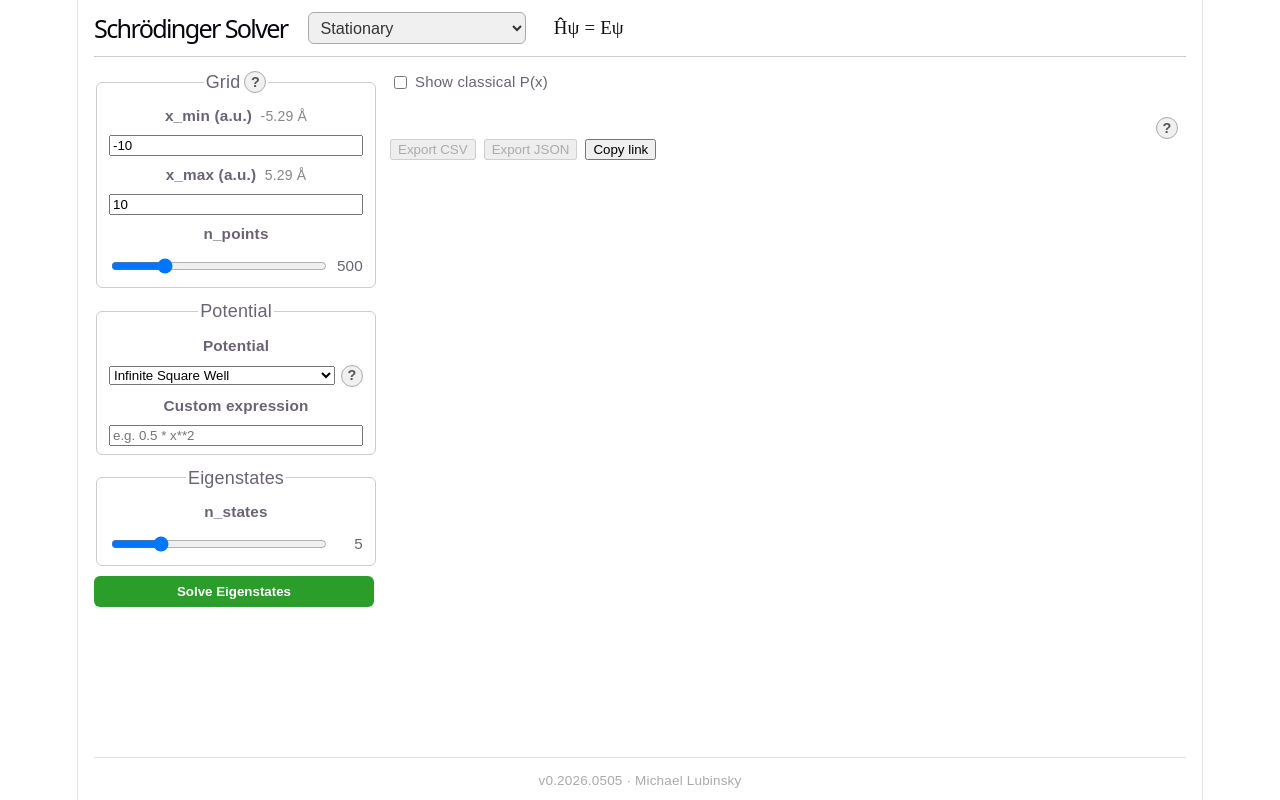
Test: App – error handling › shows ErrorBanner when API returns an error
Click the button "Solve Eigenstates": x=234, y=592 [94,576,374,607]
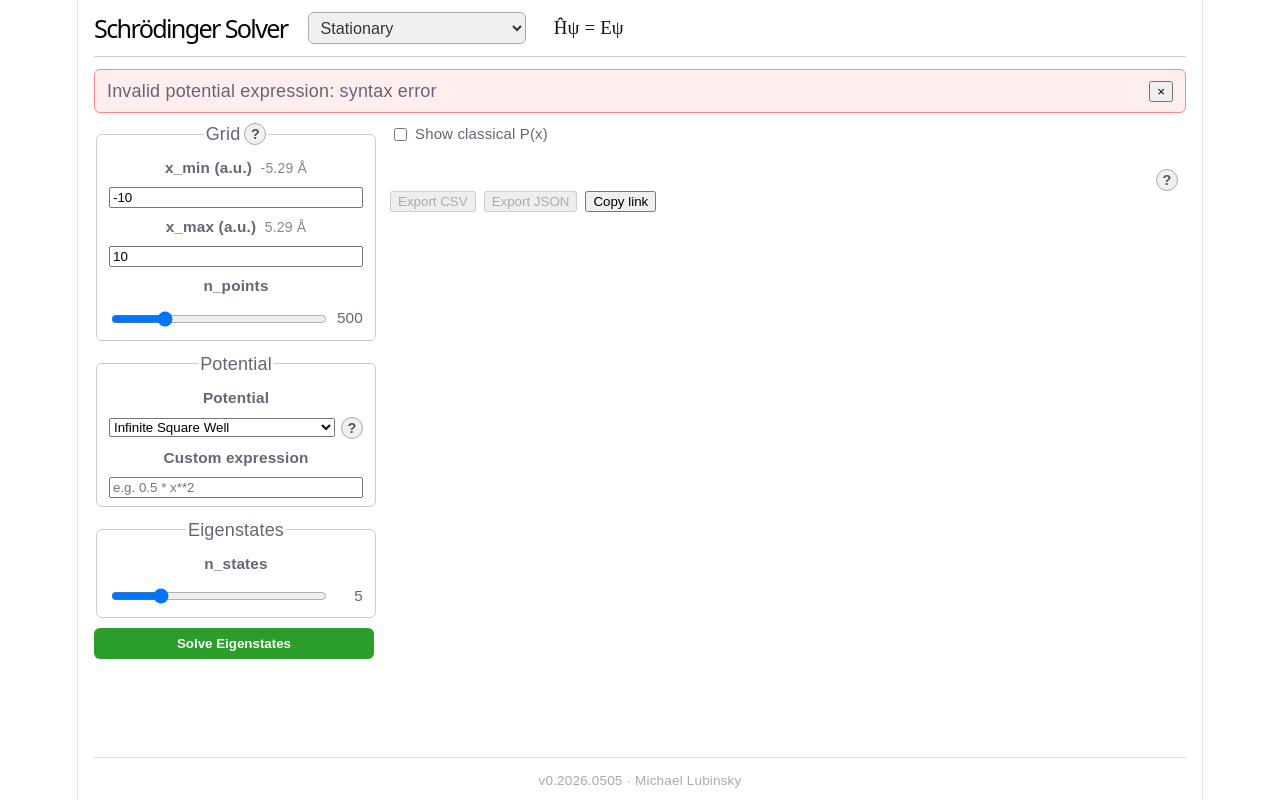
Expected: the message "Invalid potential expression: syntax error ×" is shown, [94,69,1186,113]
